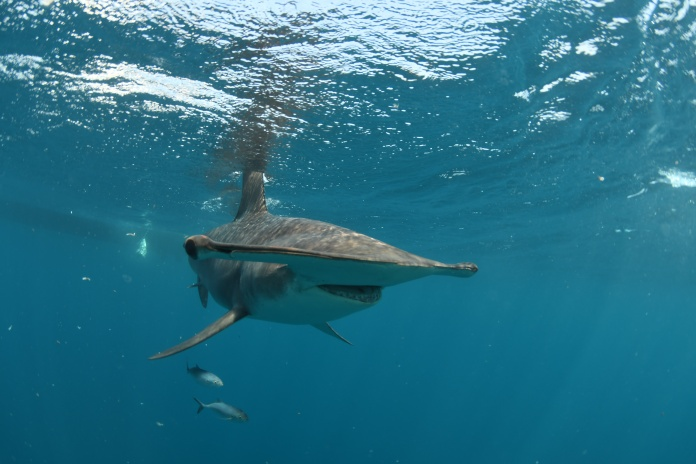Hammer: (90, 155, 519, 386)
